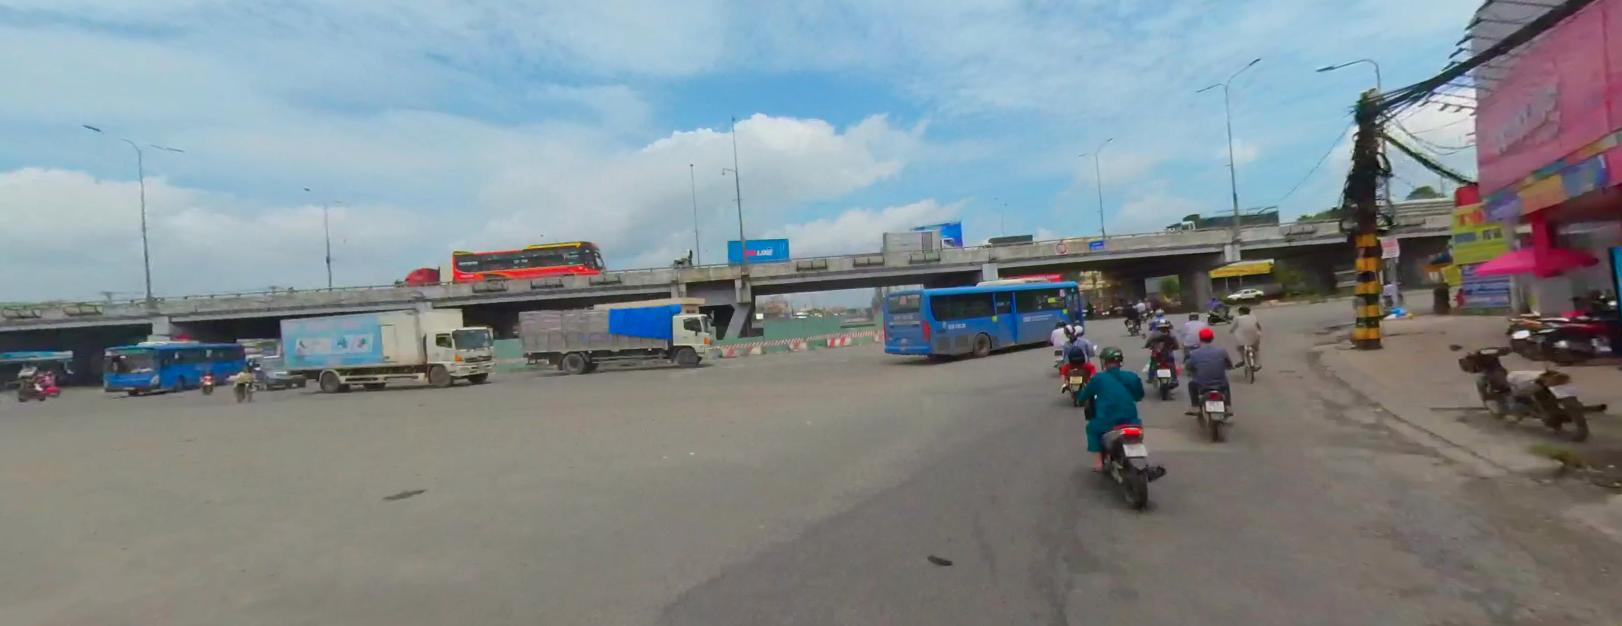Cam con lai: (1056, 241, 1066, 251), (1055, 241, 1065, 251), (1056, 242, 1066, 250)
